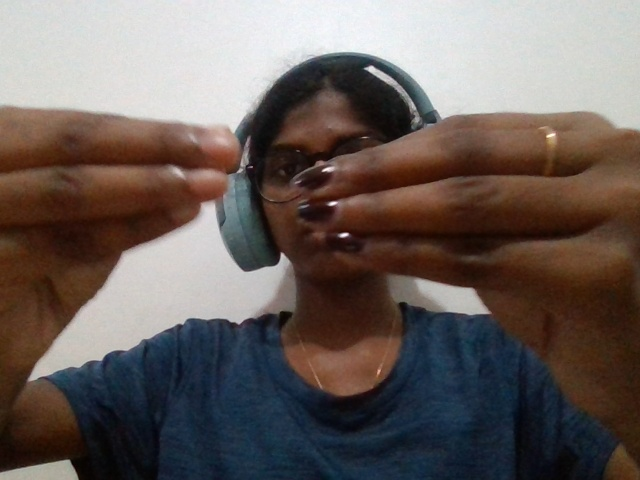More: (5, 84, 640, 439)
